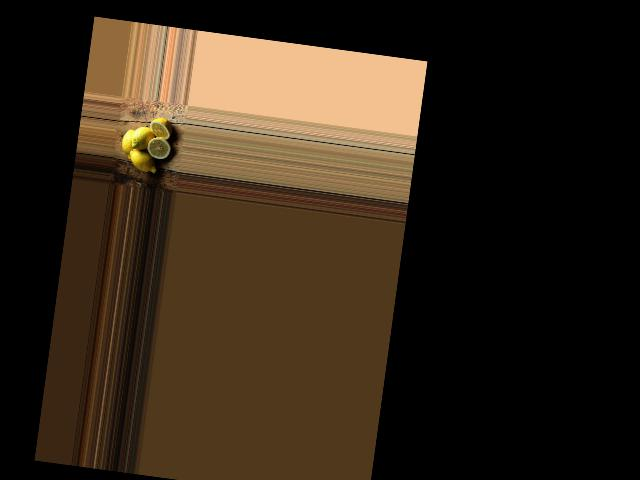lemon: (125, 147, 160, 176)
